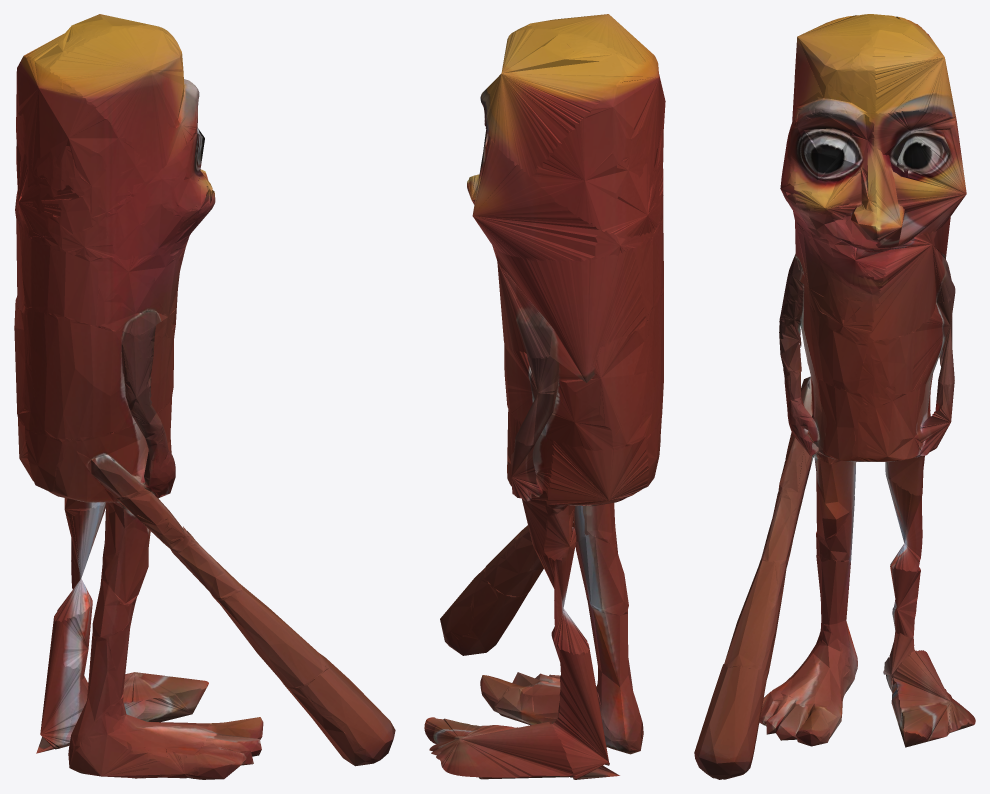
File: TungTungTungSahur.glb
The picture shows the model from 3 angles, left to right: view 1: azimuth 30°, elevation 25°; view 2: azimuth 150°, elevation 25°; view 3: azimuth 270°, elevation 25°; orthographic projection. The views are drawn at different scales.
Visible parts, largest first — view 1: TungPart2, TungPart1; view 2: TungPart1, TungPart2; view 3: TungPart1, TungPart2.
Part boxes in pixels (left/top/right/bottom): TungPart2: left=16, top=19, right=395, bottom=779; TungPart1: left=14, top=14, right=215, bottom=779; TungPart1: left=424, top=14, right=665, bottom=779; TungPart2: left=440, top=24, right=663, bottom=752; TungPart1: left=778, top=14, right=975, bottom=747; TungPart2: left=694, top=15, right=915, bottom=779.
Size of the model in its own units: 2.5 by 6 by 2.27.
1 material, 1 textured.
